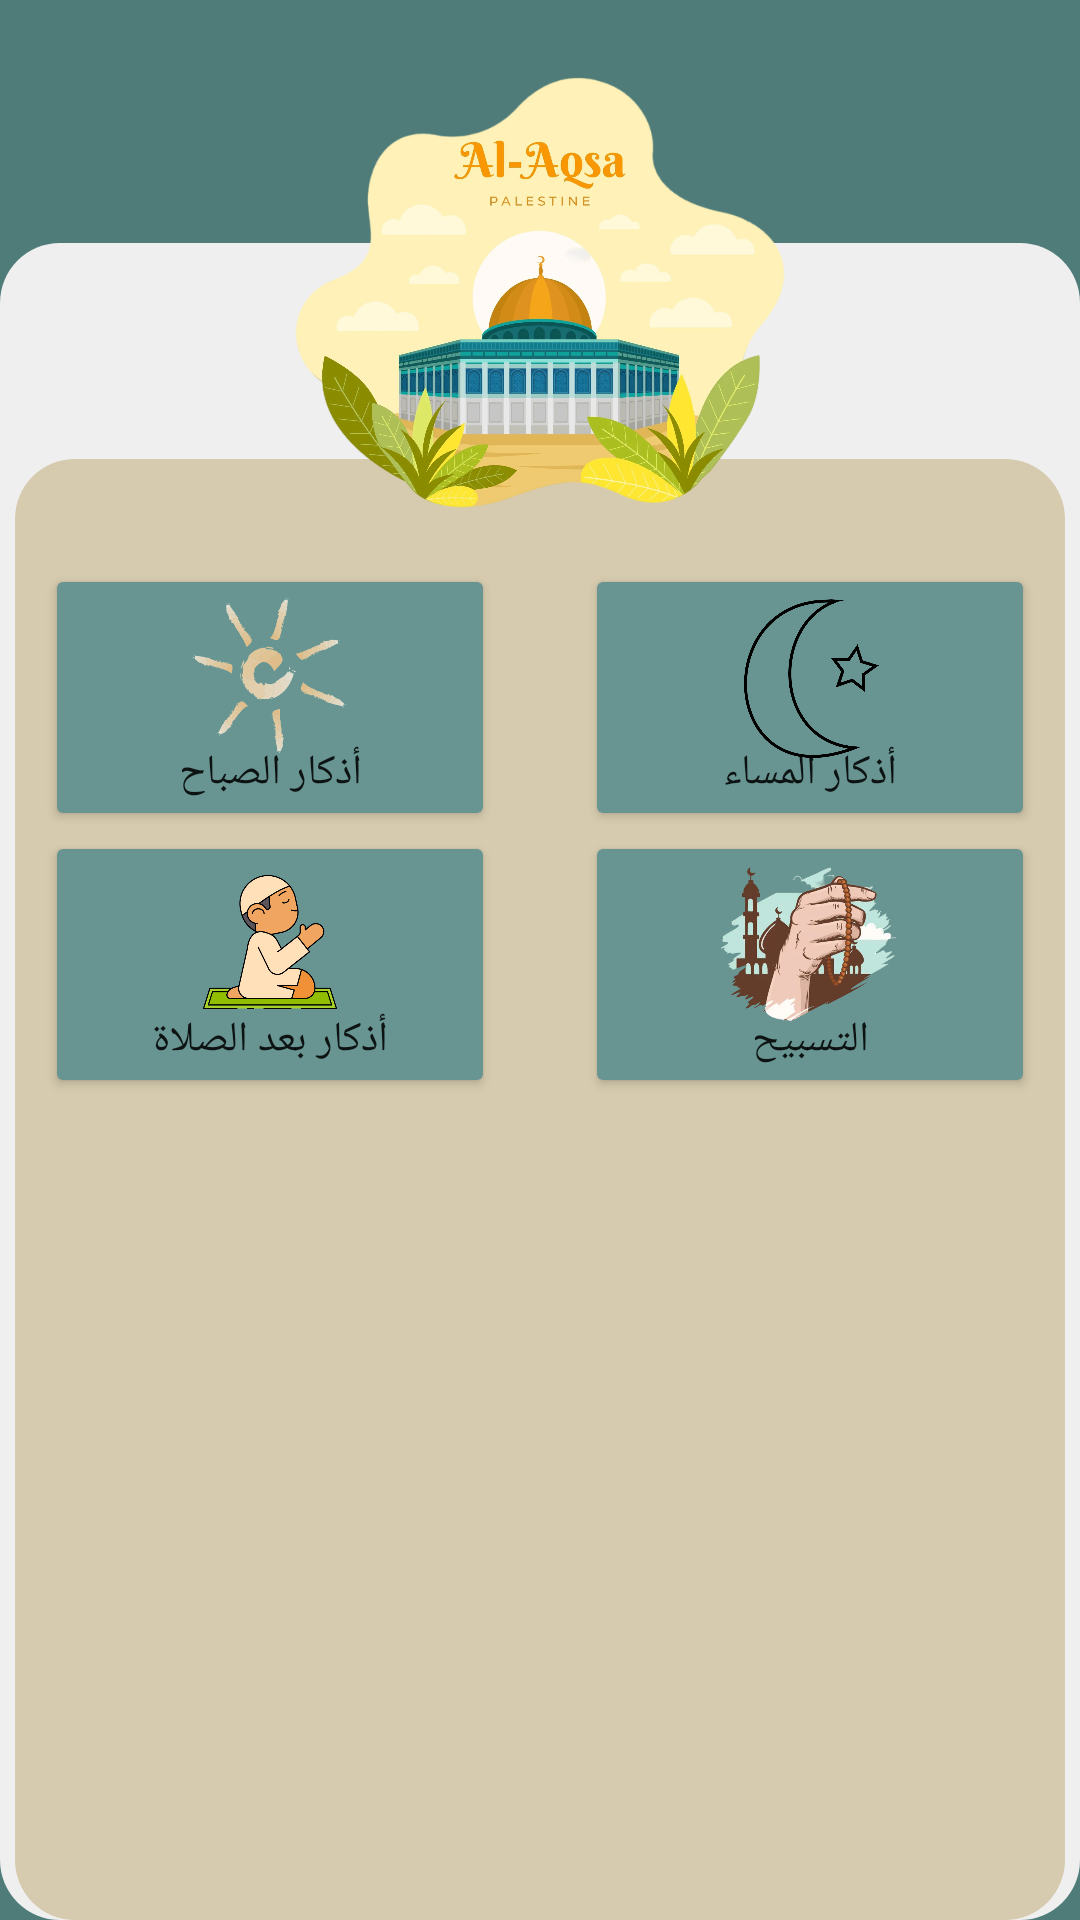

Where icons sit on this 1080 x 1920 app screen, as [x1, y1, x2, y2]:
moon: [744, 599, 895, 768]
sun: [193, 598, 359, 765]
